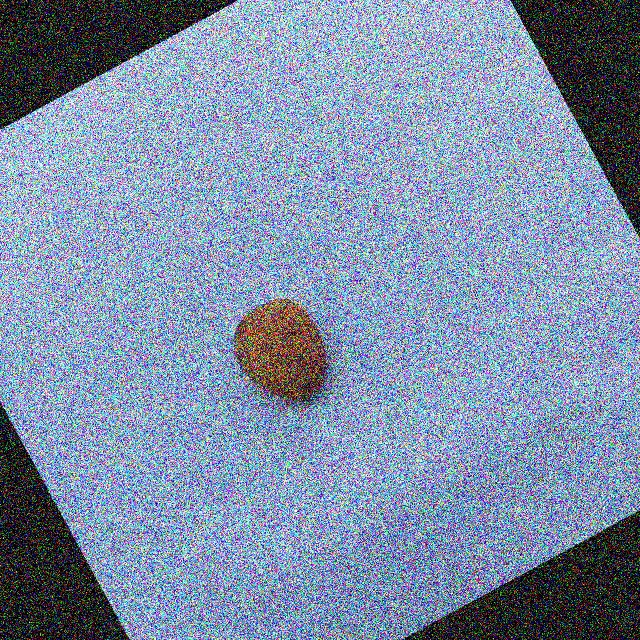grade1: (211, 276, 358, 431)
